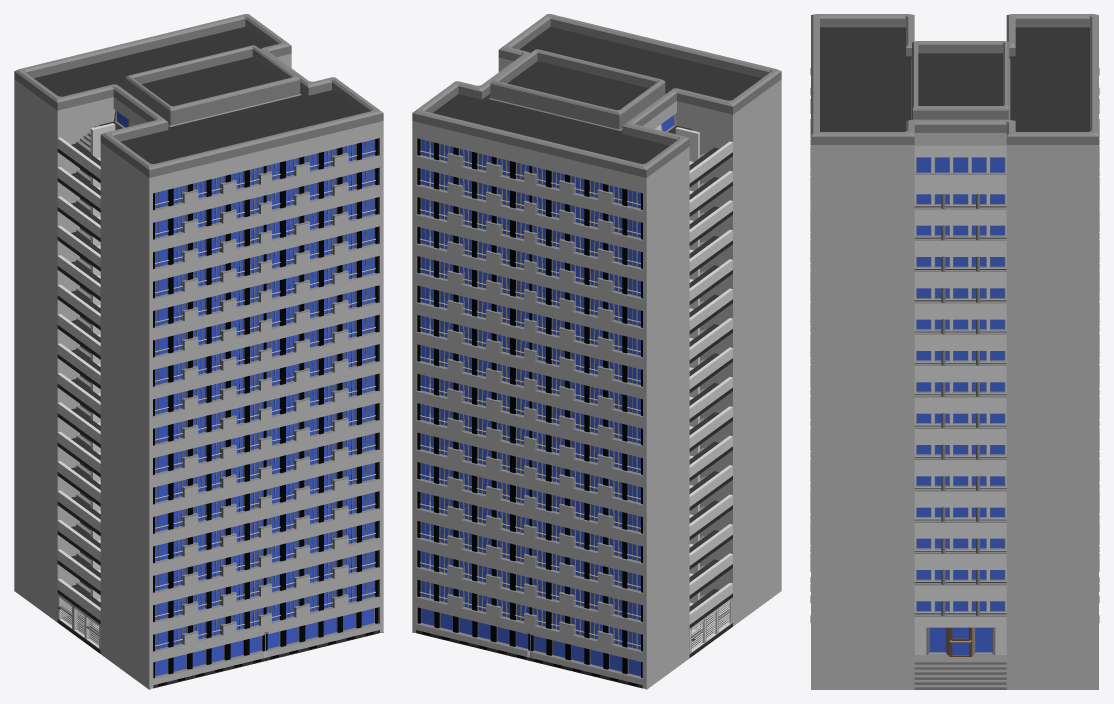
File: kapitol.fbx
3 renders of one model, left to right at view 1: azimuth 30°, elevation 25°; view 2: azimuth 150°, elevation 25°; view 3: azimuth 270°, elevation 25°, orthographic. The views are drawn at different scales.
Parts seen in each view (by area): view 1: Top, Cube.003, Cube.002, Cube.031, Cube.035, Cube.016, Cube.037, Cube.038, Cube.012, Cube.013, Cube.015, Cube.029 (+25 smaller); view 2: Top, Cube.002, Cube.003, Cube.041, Cube.045, Cube.018, Cube.021, Cube.047, Cube.048, Cube.017, Cube.020, Cube.039 (+25 smaller); view 3: Cube.004, Top, Cube.007, Last Floor, Stairs, Entry, Cube.050, Cube.056, Cube.005, Cube.011, Cube.051, Cube.054 (+42 smaller).
Boxes of the visible parts, x1,y1,x2,y2 form: Top: (14, 14, 383, 189); Cube.003: (25, 99, 115, 622); Cube.002: (100, 154, 138, 681); Cube.031: (138, 368, 383, 454); Cube.035: (138, 280, 383, 366); Cube.016: (138, 456, 383, 542); Cube.037: (138, 191, 383, 277); Cube.038: (138, 162, 383, 248); Cube.012: (138, 544, 383, 630); Cube.013: (138, 574, 383, 660); Cube.015: (138, 486, 383, 572); Cube.029: (138, 397, 383, 483); Top: (412, 14, 781, 189); Cube.002: (675, 99, 770, 626); Cube.003: (657, 158, 689, 681); Cube.041: (412, 368, 657, 454); Cube.045: (412, 280, 657, 366); Cube.018: (412, 574, 657, 660); Cube.021: (412, 456, 657, 542); Cube.047: (412, 191, 657, 277); Cube.048: (412, 162, 657, 248); Cube.017: (412, 544, 657, 630); Cube.020: (412, 486, 657, 572); Cube.039: (412, 397, 657, 483); Cube.004: (834, 157, 914, 689); Top: (811, 14, 1098, 157); Cube.007: (1006, 157, 1075, 689); Last Floor: (914, 145, 1006, 184); Stairs: (914, 655, 1006, 689); Entry: (914, 622, 1006, 656); Cube.050: (914, 434, 1006, 466); Cube.056: (914, 246, 1006, 278); Cube.005: (914, 591, 1006, 622); Cube.011: (914, 497, 1006, 528); Cube.051: (914, 403, 1006, 434); Cube.054: (914, 309, 1006, 340).
Size of the model in its own units: 2519 by 5398 by 2510.
